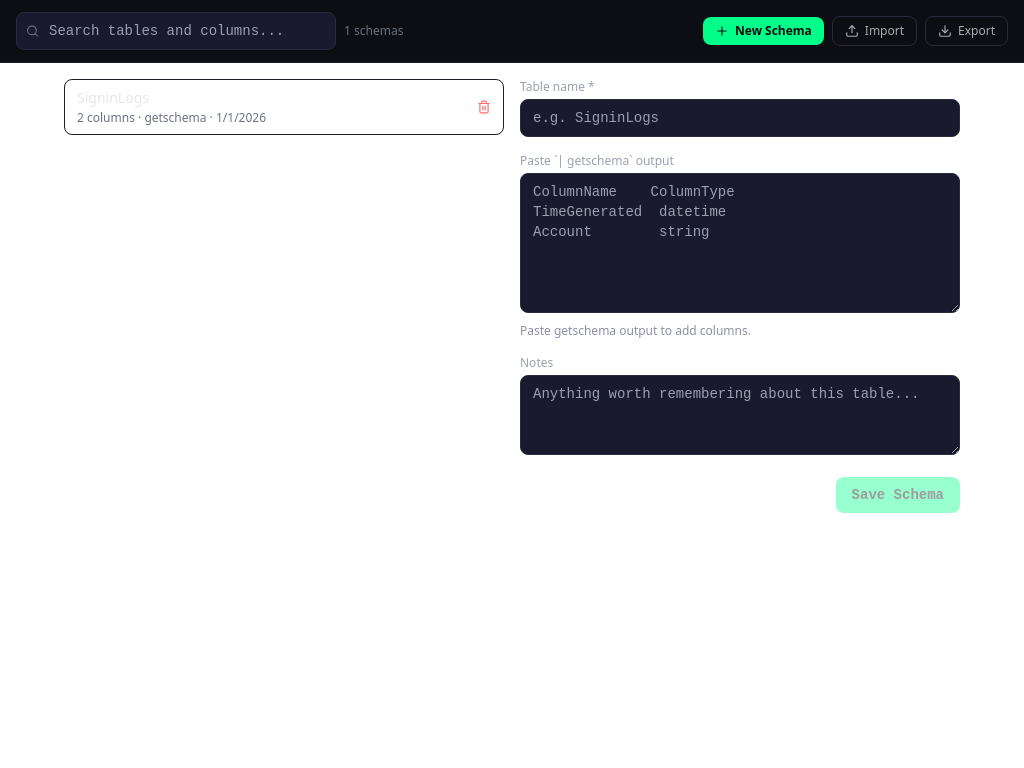
Test: the stored columns › seeds the column filter from the list search, so a column hit lands on that column
Check: the text "SigninLogs" is shown, box [77,88,149,107]
In the field named "Search table and column names": [176, 31] box [16,12,336,50], type "userprincipal"
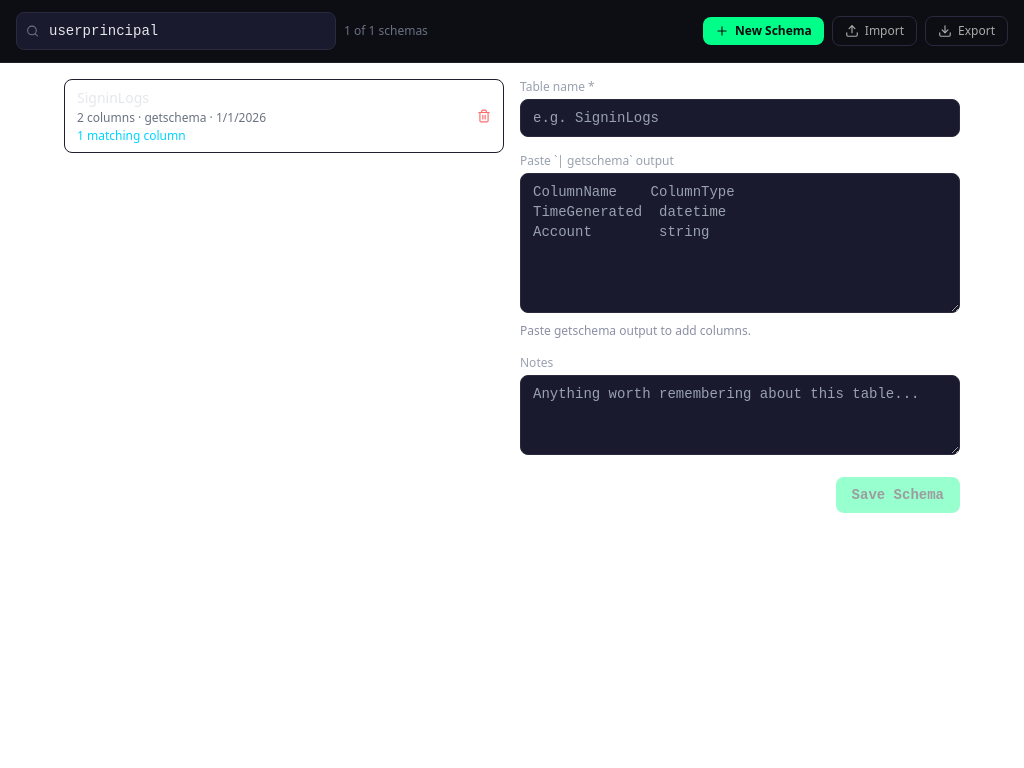
Click the text "SigninLogs": [113, 98] box [77,88,149,107]
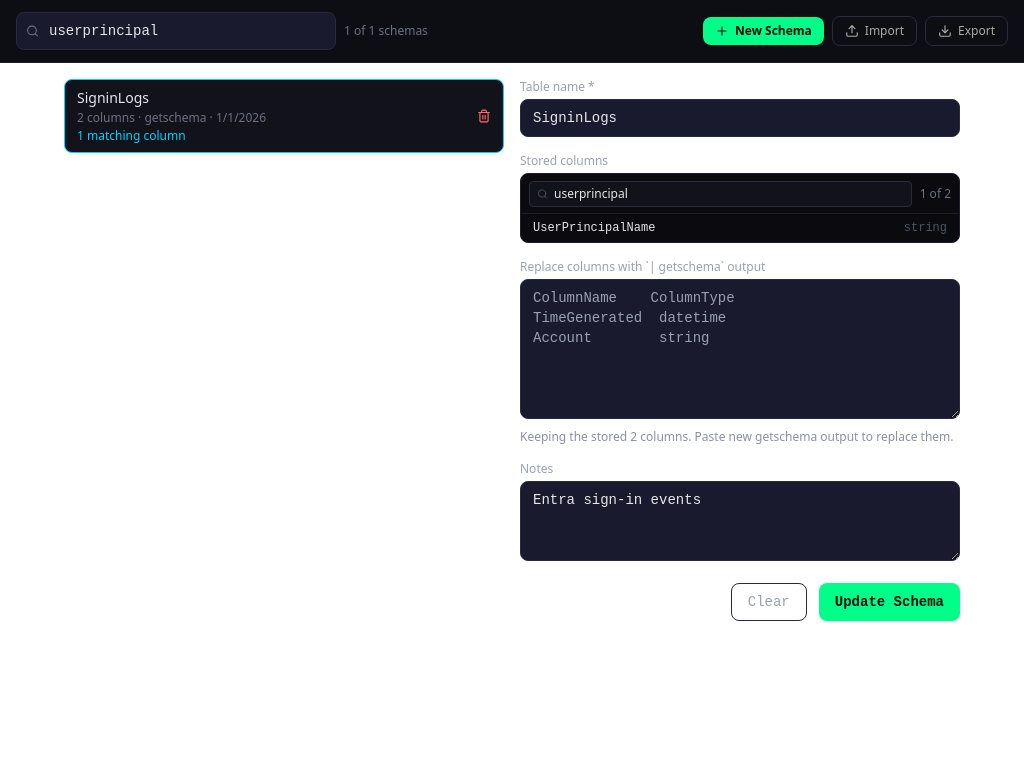
Check: the field with placeholder "Filter columns…" next to "1 of 2" holds "userprincipal", box [529,181,912,207]
Check: the text "UserPrincipalName" is shown, box [533,220,655,236]
